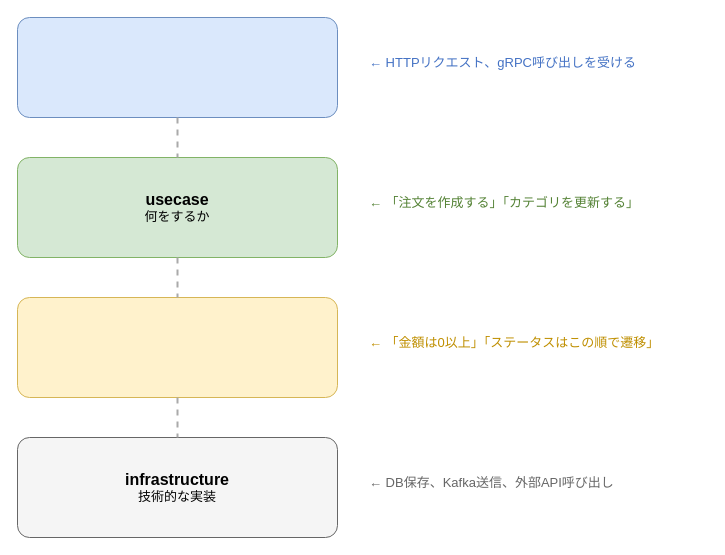
This 725x555 diagram has some shape labels left out. The shapes that lost their labels are listed below. From the top down, each one's centre as x and y in pixels, then its label:
point 177,67: adapter 外の世界との接点
point 177,347: domain 業務のルール
